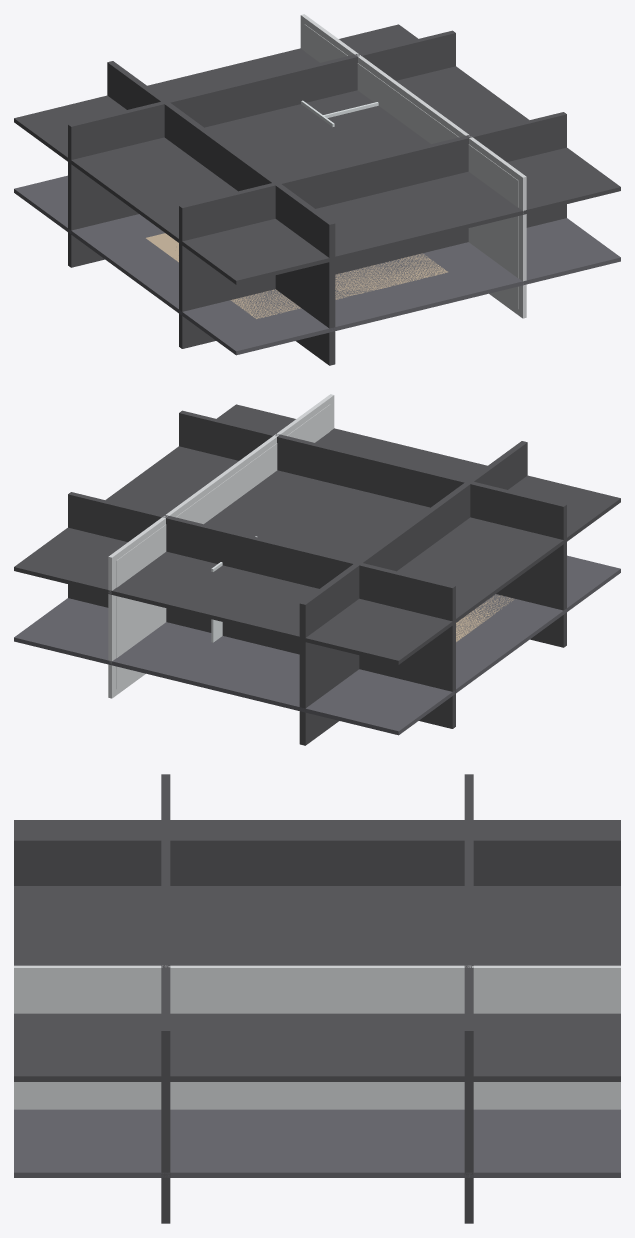
Rendered from 05-fitness-studio.glb.
3 renders of one model, top to bottom at view 1: azimuth 30°, elevation 25°; view 2: azimuth 150°, elevation 25°; view 3: azimuth 270°, elevation 25°, orthographic. The views are drawn at different scales.
Parts seen in each view (by area): view 1: Ceiling, FloorMain, WallSouth, WallNorth, WallWest, MirrorPanel, FloorYoga, WallEastMirror; view 2: Ceiling, FloorMain, WallNorth, WallSouth, WallWest, MirrorPanel, WallEastMirror, FloorYoga; view 3: Ceiling, WallEastMirror, FloorMain, WallWest, WallSouth, WallNorth.
Boxes of the visible parts, bbox=[...] form: Ceiling: bbox=[14, 24, 620, 284]; FloorMain: bbox=[14, 175, 620, 355]; WallSouth: bbox=[179, 112, 566, 348]; WallNorth: bbox=[68, 30, 455, 267]; WallWest: bbox=[107, 61, 335, 365]; MirrorPanel: bbox=[304, 24, 518, 308]; FloorYoga: bbox=[146, 233, 447, 318]; WallEastMirror: bbox=[300, 14, 526, 318]; Ceiling: bbox=[14, 404, 620, 664]; FloorMain: bbox=[14, 555, 620, 735]; WallNorth: bbox=[68, 492, 455, 728]; WallSouth: bbox=[179, 410, 566, 647]; WallWest: bbox=[299, 441, 527, 745]; MirrorPanel: bbox=[116, 404, 330, 688]; WallEastMirror: bbox=[108, 394, 334, 698]; FloorYoga: bbox=[456, 595, 513, 641]; Ceiling: bbox=[14, 820, 620, 1081]; WallEastMirror: bbox=[14, 965, 620, 1109]; FloorMain: bbox=[14, 1109, 620, 1177]; WallWest: bbox=[14, 836, 620, 885]; WallSouth: bbox=[161, 774, 170, 1223]; WallNorth: bbox=[464, 774, 473, 1223].
Bounding box in the file's own units: 20 × 7 × 20.
